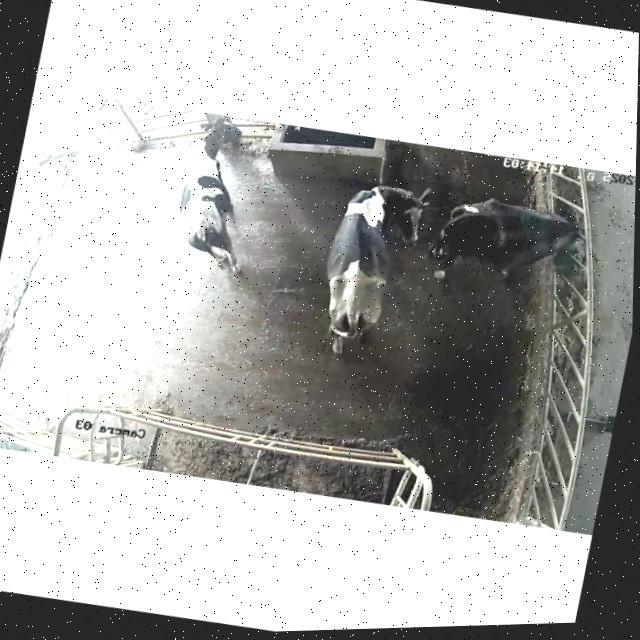stand: (293, 163, 439, 378), (153, 106, 275, 288)
